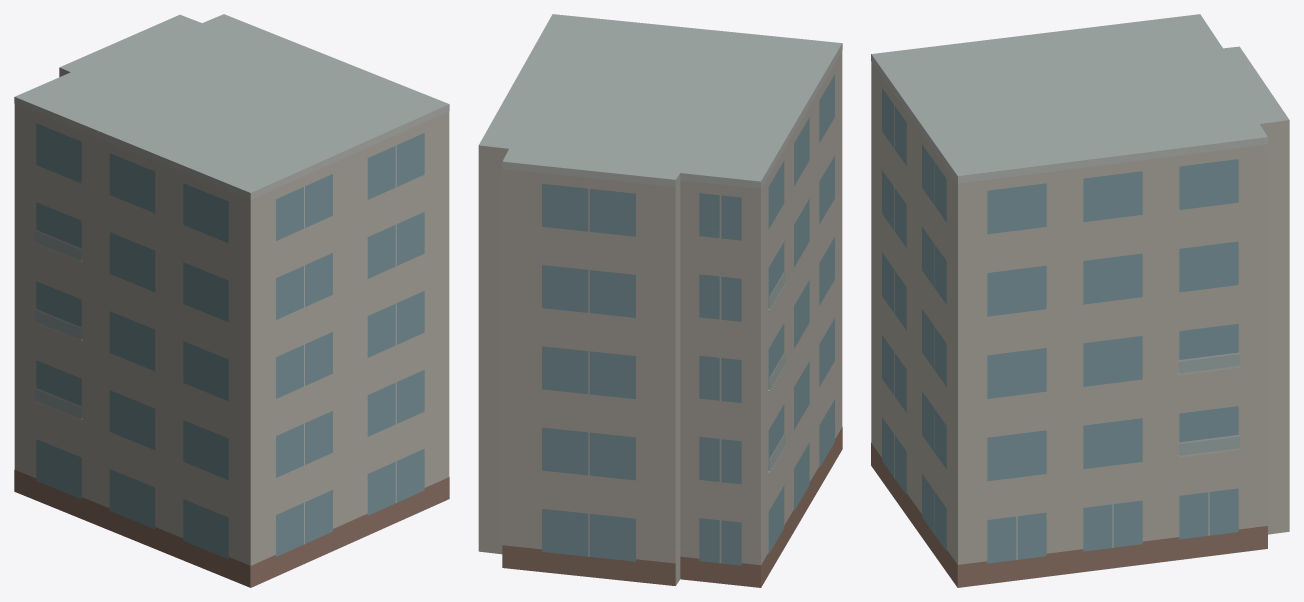
File: survey-upis-32669378.glb
3 renders of one model, left to right at view 1: azimuth 30°, elevation 25°; view 2: azimuth 150°, elevation 25°; view 3: azimuth 270°, elevation 25°, orthographic. The views are drawn at different scales.
Parts seen in each view (by area): view 1: survey-upis-32669378.tmp; view 2: survey-upis-32669378.tmp; view 3: survey-upis-32669378.tmp.
Boxes of the visible parts, x1,y1,x2,y2 form: survey-upis-32669378.tmp: [14, 14, 449, 587]; survey-upis-32669378.tmp: [478, 14, 842, 587]; survey-upis-32669378.tmp: [871, 14, 1289, 587].
Size of the model in its own units: 11.67 by 13.8 by 12.72.
